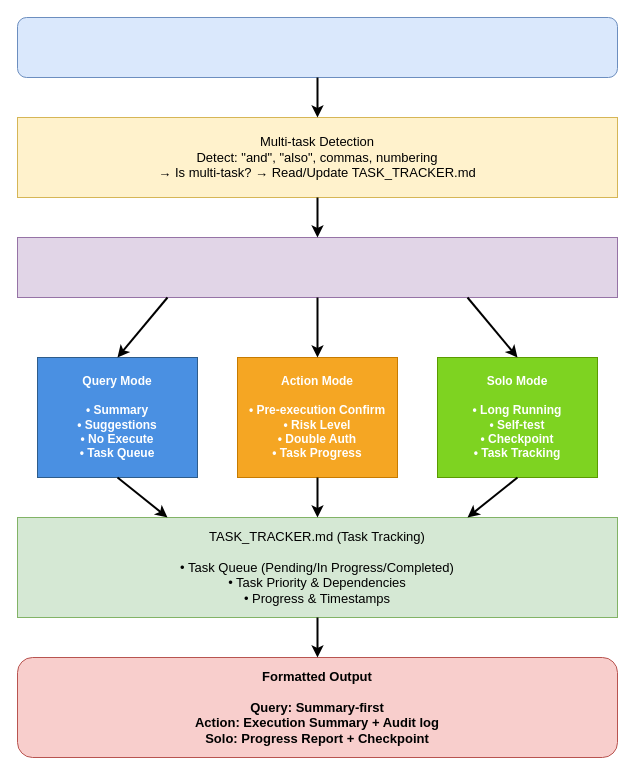
This 635x775 diagram has some shape labels left out. The shapes that lost their labels are listed below. From the top down, each one's centre as x and y in pixels, then its label:
At (317,47): "User Input".
At (317,267): "Trigger Detection Solo auth? → Action auth? → Default Query".
